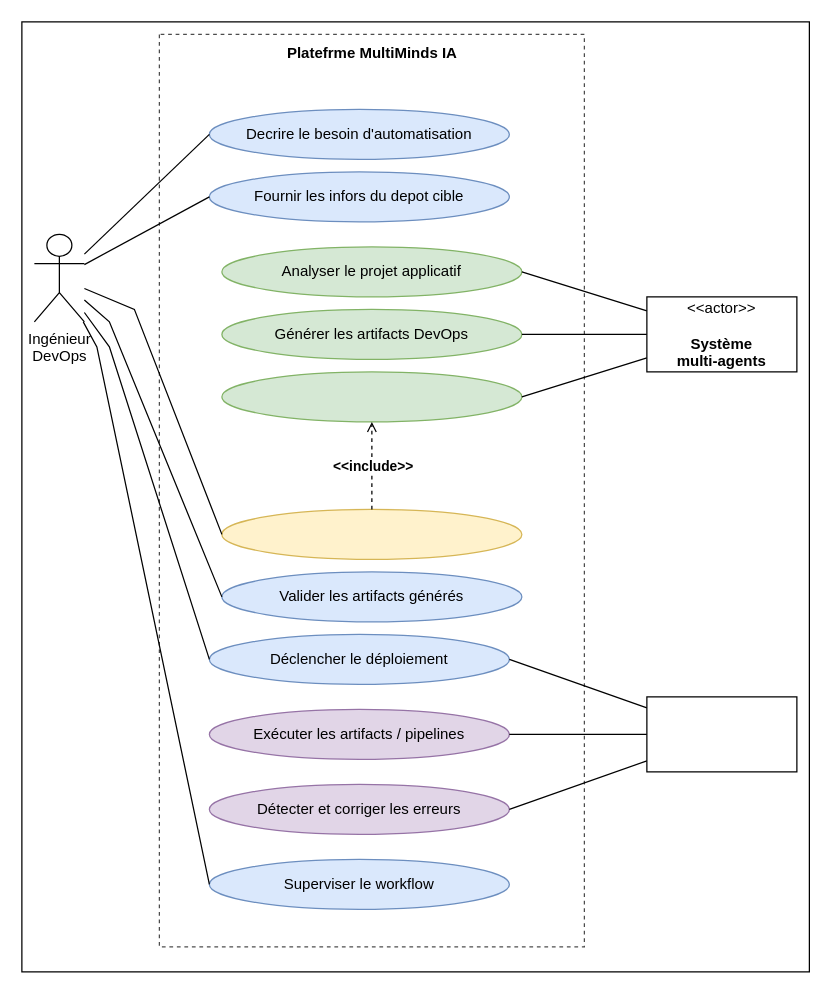
Image size: 831x994. Some labels were removed from this diagram. The shapes that lost their labels are listed below. From the top down, each one's centre as x and y in pixels, then its label:
At (371,396): "Proposer des architectures".
At (371,533): "Choisir une architecture".
At (721,734): "<<actor>> Système d'exécution".
